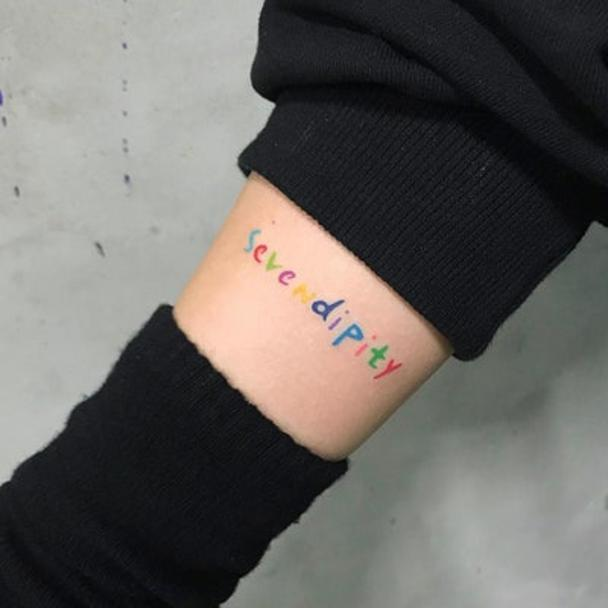tattoos: (242, 228, 404, 382)
